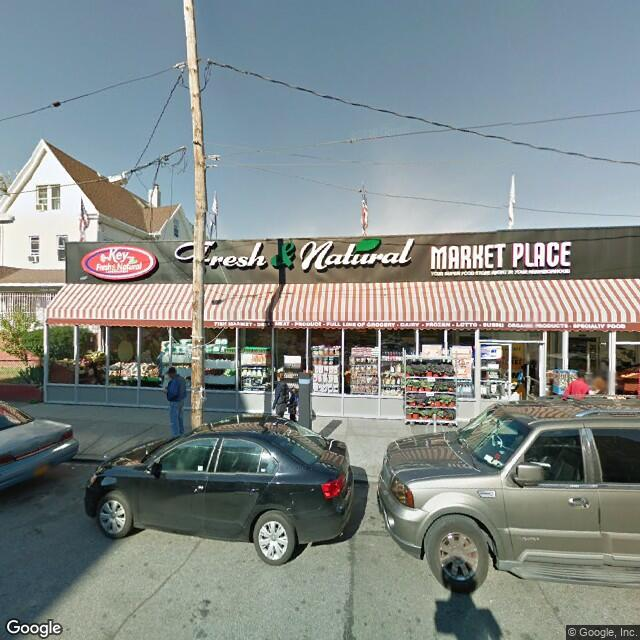litter: (71, 465, 78, 470)
